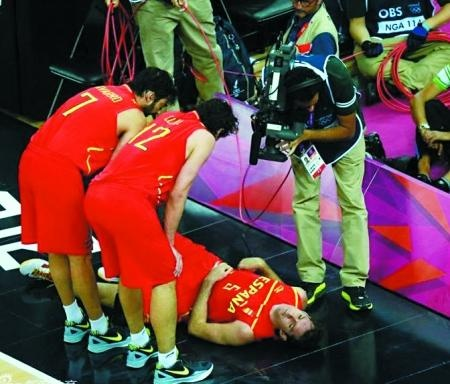falling: (84, 223, 320, 357)
